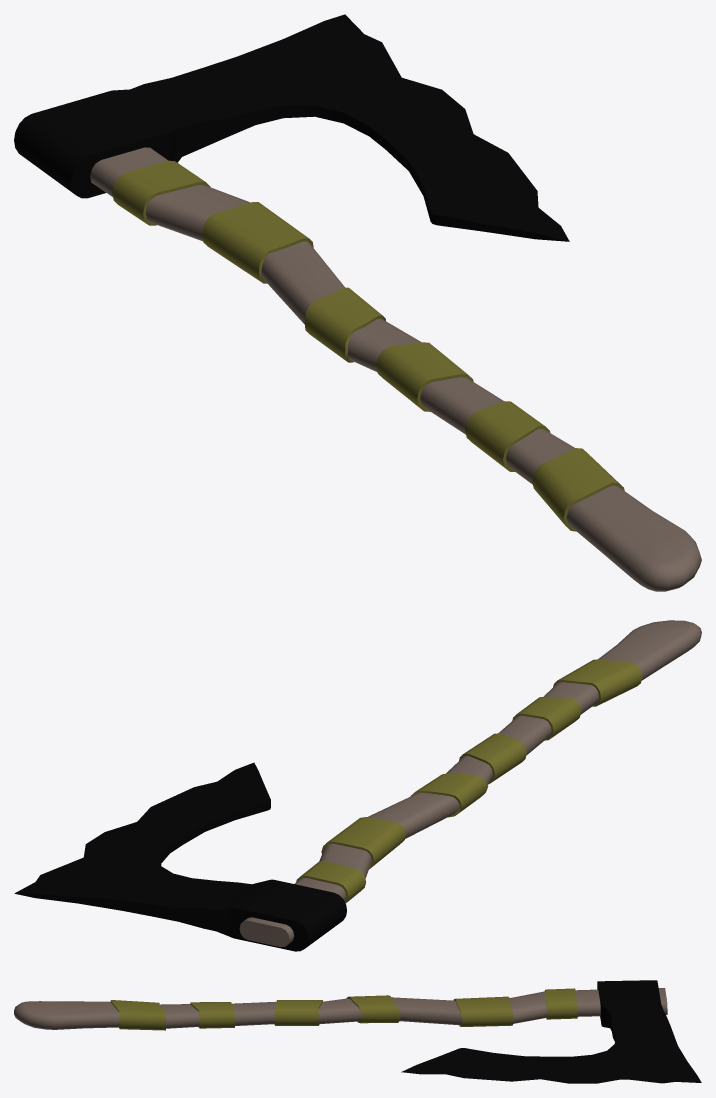
The model's file is Msh_Axe_Env.fbx.
3 views of the same model, one above another, from view 1: azimuth 30°, elevation 25°; view 2: azimuth 150°, elevation 25°; view 3: azimuth 270°, elevation 25° (orthographic). The views are drawn at different scales.
Parts seen in each view (by area): view 1: Msh_Axe_Env; view 2: Msh_Axe_Env; view 3: Msh_Axe_Env.
Boxes of the visible parts, box(x1,y1,x2,y2) form: Msh_Axe_Env: box(14, 14, 701, 591); Msh_Axe_Env: box(14, 620, 701, 951); Msh_Axe_Env: box(14, 980, 701, 1083).
Bounding box in the file's own units: 30.9 × 92.31 × 4.16.
